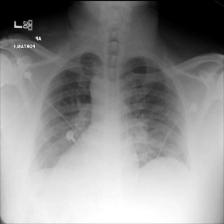normal: (28, 44, 191, 177)
